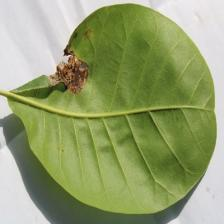leaf miner: (1, 2, 217, 215)
